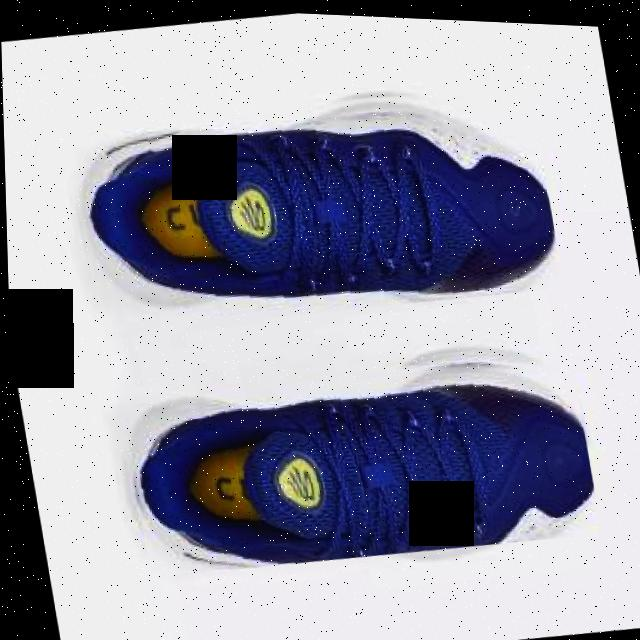shoe: (56, 51, 564, 349), (102, 311, 600, 593)
